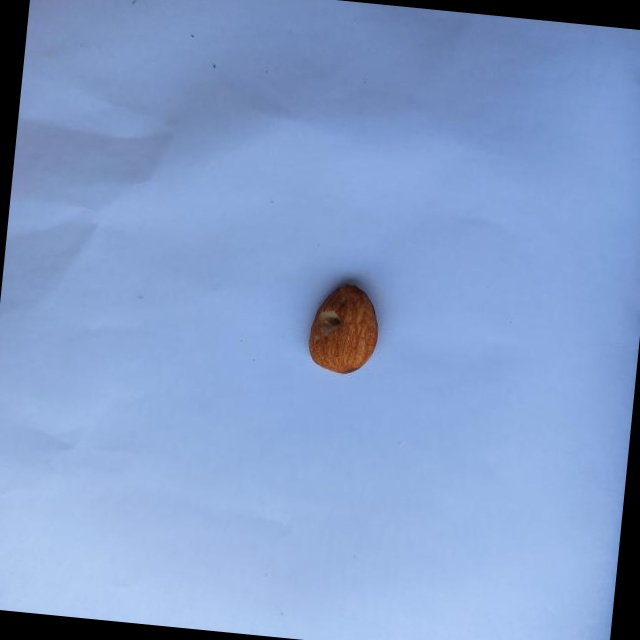grade3: (301, 276, 385, 381)
